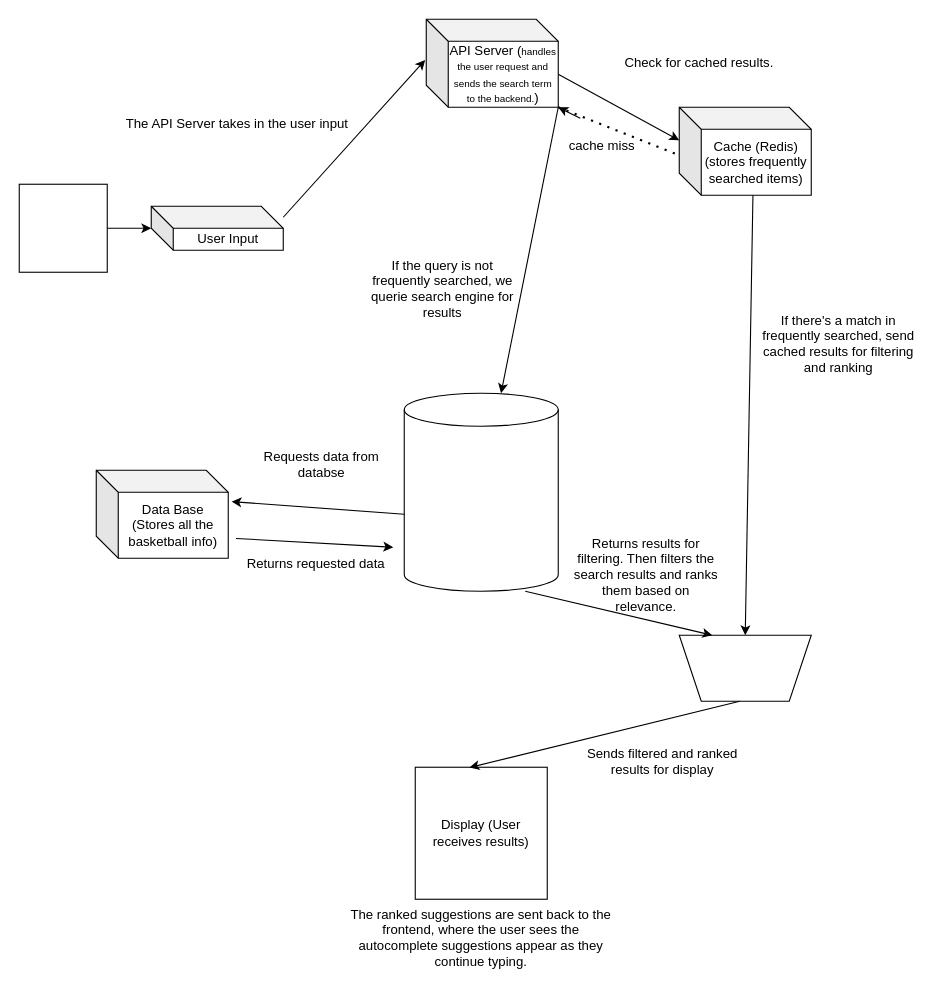
Image size: 941x989. Some labels were removed from this diagram. The centre of each missing label's shape, as x and y in pixels:
Result Filtering & Ranking: the point at 744,667
Search Engine (Elasticsearch) (performs the actual search based on the query.): the point at 480,491
User query: the point at 62,227
